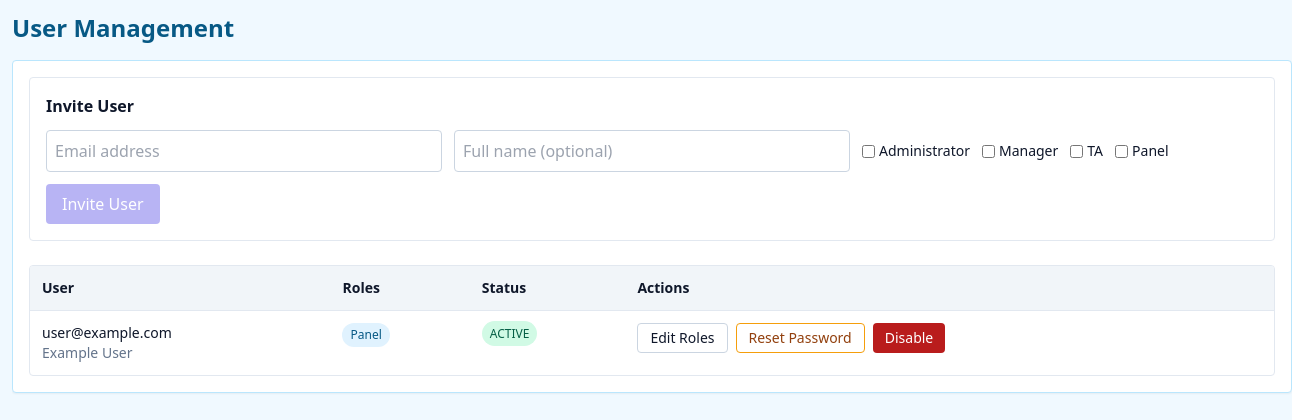
UsersPage password reset › lets an administrator request a reset for an active user
Click the button "Reset Password". click: click(800, 338)
box: [736,323,865,353]
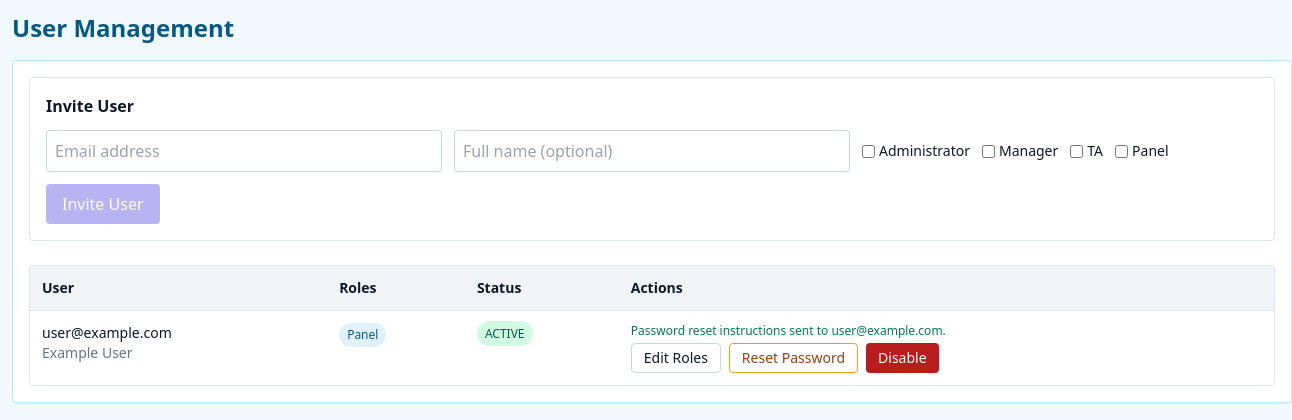
Now the text "Password reset instructions sent to user@example.com." is shown, box [631,322,946,339]
